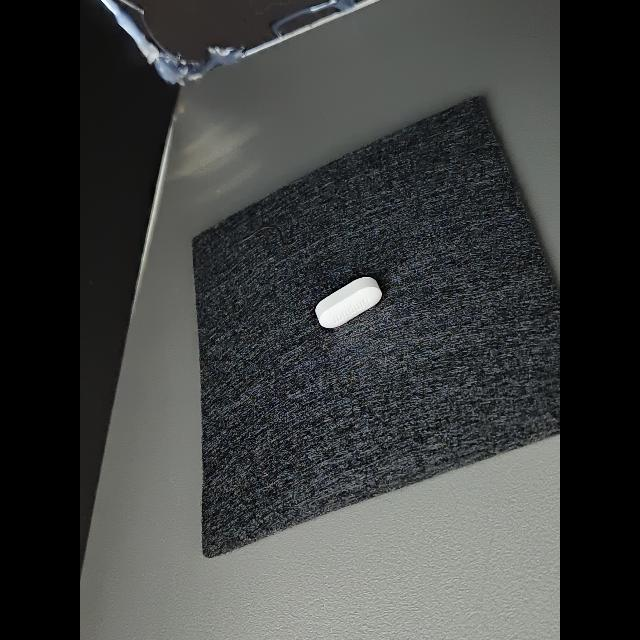Intact Pill: (315, 277, 382, 328)
